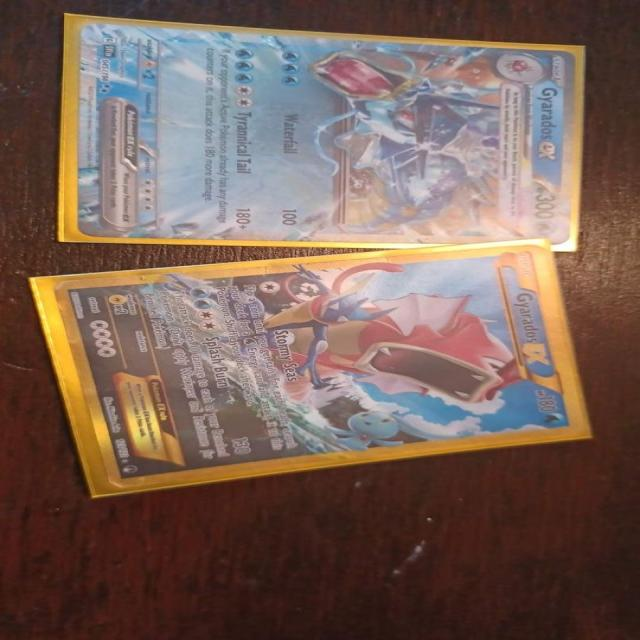card: (53, 244, 588, 488), (78, 24, 577, 245)
